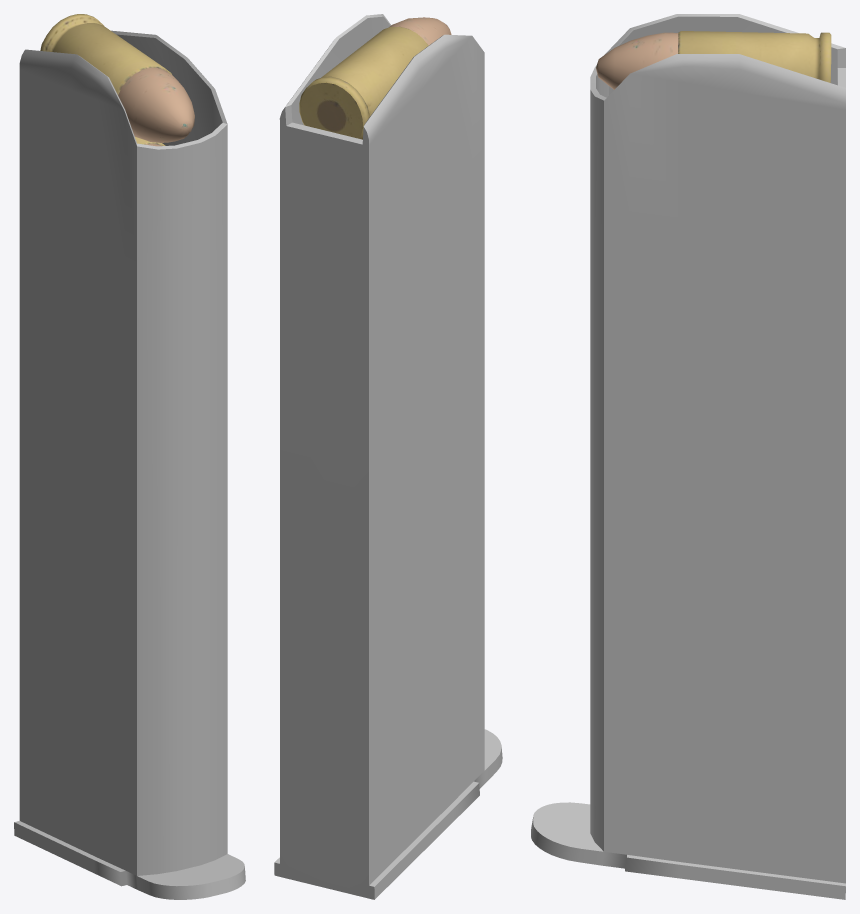
The model's file is MagFull2.fbx.
3 renders of one model, left to right at view 1: azimuth 30°, elevation 25°; view 2: azimuth 150°, elevation 25°; view 3: azimuth 270°, elevation 25°, orthographic. The views are drawn at different scales.
Parts seen in each view (by area): view 1: Mesh, Bullet; view 2: Mesh, Bullet; view 3: Mesh, Bullet.
Boxes of the visible parts, left/top/right/bottom form: Mesh: left=14, top=30, right=245, bottom=899; Bullet: left=40, top=14, right=194, bottom=142; Mesh: left=274, top=14, right=502, bottom=899; Bullet: left=299, top=17, right=451, bottom=139; Mesh: left=531, top=14, right=845, bottom=899; Bullet: left=596, top=31, right=831, bottom=89.
Bounding box in the file's own units: 1.65 × 12.65 × 4.3.
